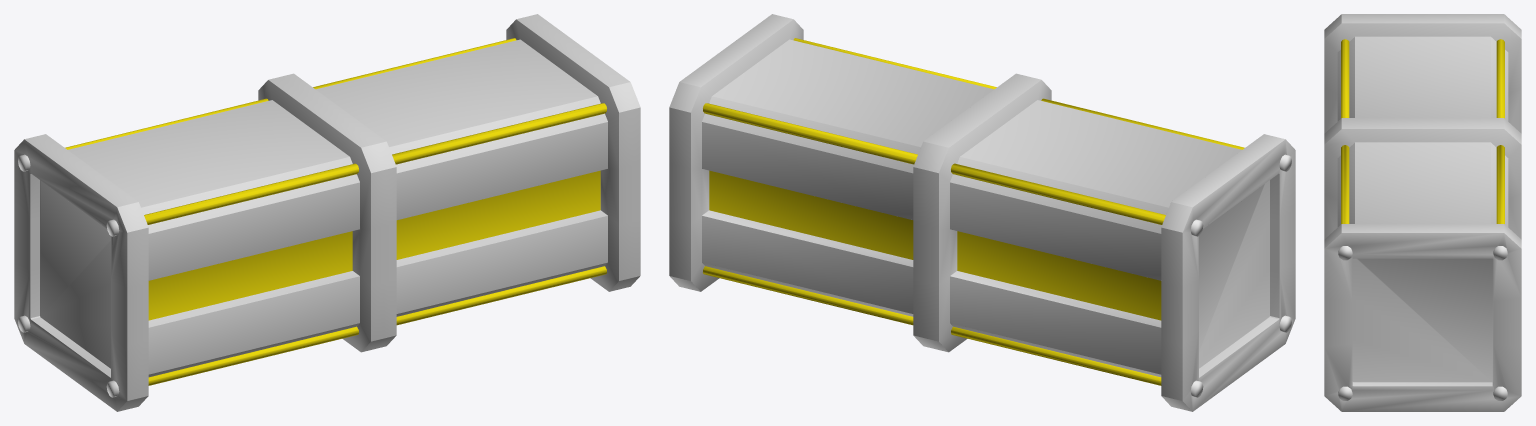
File: scifi box unwrapped.fbx
The picture shows the model from 3 angles, left to right: view 1: azimuth 30°, elevation 25°; view 2: azimuth 150°, elevation 25°; view 3: azimuth 270°, elevation 25°; orthographic projection. The views are drawn at different scales.
Parts seen in each view (by area): view 1: Cube, Cylinder, Cylinder.001; view 2: Cube, Cylinder, Cylinder.001; view 3: Cube, Cylinder, Cylinder.001.
Part boxes in pixels (bbox=[...]): Cube: bbox=[14, 14, 640, 411]; Cylinder: bbox=[65, 38, 606, 385]; Cylinder.001: bbox=[18, 154, 119, 397]; Cube: bbox=[669, 14, 1295, 411]; Cylinder: bbox=[703, 38, 1244, 385]; Cylinder.001: bbox=[1190, 154, 1291, 397]; Cube: bbox=[1324, 14, 1521, 411]; Cylinder: bbox=[1341, 39, 1504, 223]; Cylinder.001: bbox=[1338, 246, 1507, 400].
Bounding box in the file's own units: 617 × 231 × 231.
